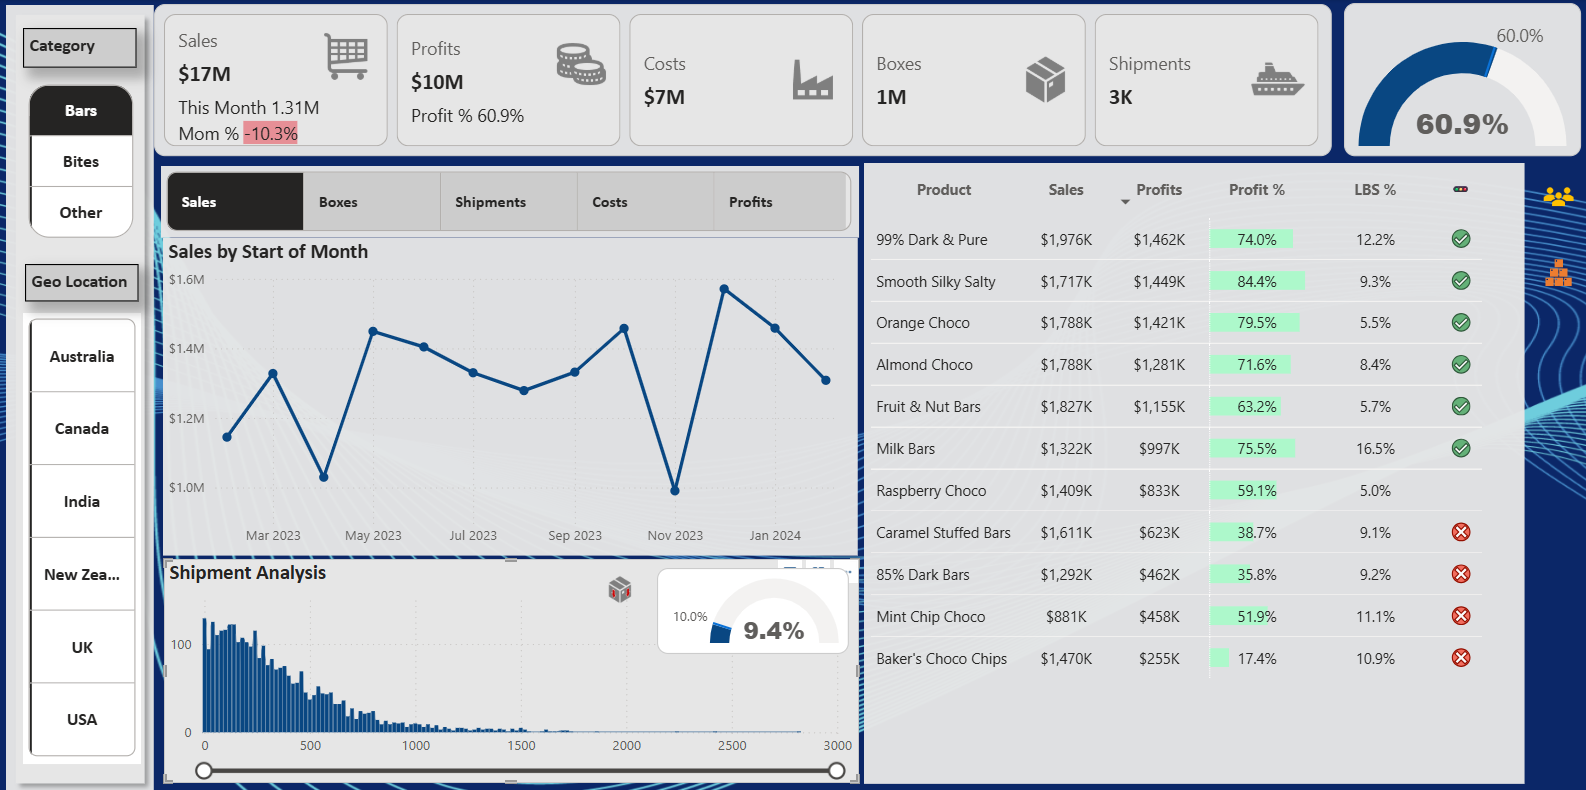

Layout of this report page (visuals, bound fields, positions):
{"tool":"powerbi","page":{"name":"Visual","canvas":[1500,720],"ordinal":0},"visuals":[{"type":"cardVisual","title":"Sales","fields":{"Data":["_Measures.Total Sales","_Measures.Total Profits","_Measures.Total Costs","_Measures.Total Boxes","_Measures.Total Shipments"]},"box":[191.8,4.7,1068.3,138.2],"z":0},{"type":"gauge","fields":{"Y":["_Measures.Profit %"]},"box":[1271.2,3.8,215,138.8],"z":1000},{"type":"lineChart","fields":{"Y":["_Measures.Total Sales"],"Category":["calendar.Start of Month"]},"box":[200.3,216.3,630.1,287.8],"z":2000},{"type":"advancedSlicerVisual","fields":{"Values":["Measure Selector.Measure Selector"]},"box":[198.4,151.4,632.9,64.9],"z":3000},{"type":"columnChart","title":"Shipment Analysis","fields":{"Category":["shipments.Boxes (bins)"],"Y":["_Measures.Total Shipments"]},"box":[201.3,507.8,630.1,203.1],"z":4000},{"type":"gauge","fields":{"Y":["_Measures.LBS %"]},"box":[648.8,516.2,173.8,77.5],"z":5000},{"type":"image","box":[581.2,516.2,67.5,38.8],"z":6000},{"type":"tableEx","title":"Product Details","fields":{"Values":["products.Product","_Measures.Total Sales","_Measures.Total Profits","_Measures.Profit %","_Measures.LBS %","_Measures.Profit Target Indicator"]},"box":[836.2,148.8,598.8,562.5],"z":8000},{"type":"image","title":"Product Icon","box":[1445,210,41.2,75],"z":9000},{"type":"image","title":"People Icon","box":[1445,148.8,41.2,61.2],"z":10000},{"type":"shape","box":[57.6,5.1,134.4,714.6],"z":11000},{"type":"advancedSlicerVisual","fields":{"Values":["products.Category"]},"box":[73.8,72.8,105.1,149.6],"z":12000},{"type":"advancedSlicerVisual","fields":{"Values":["locations.Geo"]},"box":[73.8,285,107.1,409.4],"z":13000},{"type":"textbox","box":[73.4,26.3,103.4,35.7],"z":14000},{"type":"textbox","box":[75.3,240.3,103.4,34.5],"z":15000}]}

Visuals, with their boxes in screenshot pixels (x1, y1, x2, y2):
"Sales" cardVisual: <bbox>158, 5, 1313, 154</bbox>
gauge - _Measures.Profit %: <bbox>1325, 4, 1557, 154</bbox>
lineChart - _Measures.Total Sales x calendar.Start of Month: <bbox>167, 234, 848, 545</bbox>
advancedSlicerVisual - Measure Selector.Measure Selector: <bbox>165, 164, 849, 234</bbox>
"Shipment Analysis" columnChart: <bbox>168, 549, 849, 769</bbox>
gauge - _Measures.LBS %: <bbox>652, 558, 840, 642</bbox>
image: <bbox>579, 558, 652, 600</bbox>
"Product Details" tableEx: <bbox>854, 161, 1502, 769</bbox>
"Product Icon" image: <bbox>1513, 227, 1557, 308</bbox>
"People Icon" image: <bbox>1513, 161, 1557, 227</bbox>
shape: <bbox>13, 6, 158, 778</bbox>
advancedSlicerVisual - products.Category: <bbox>30, 79, 144, 240</bbox>
advancedSlicerVisual - locations.Geo: <bbox>30, 308, 146, 751</bbox>
textbox: <bbox>30, 28, 142, 67</bbox>
textbox: <bbox>32, 260, 144, 297</bbox>
